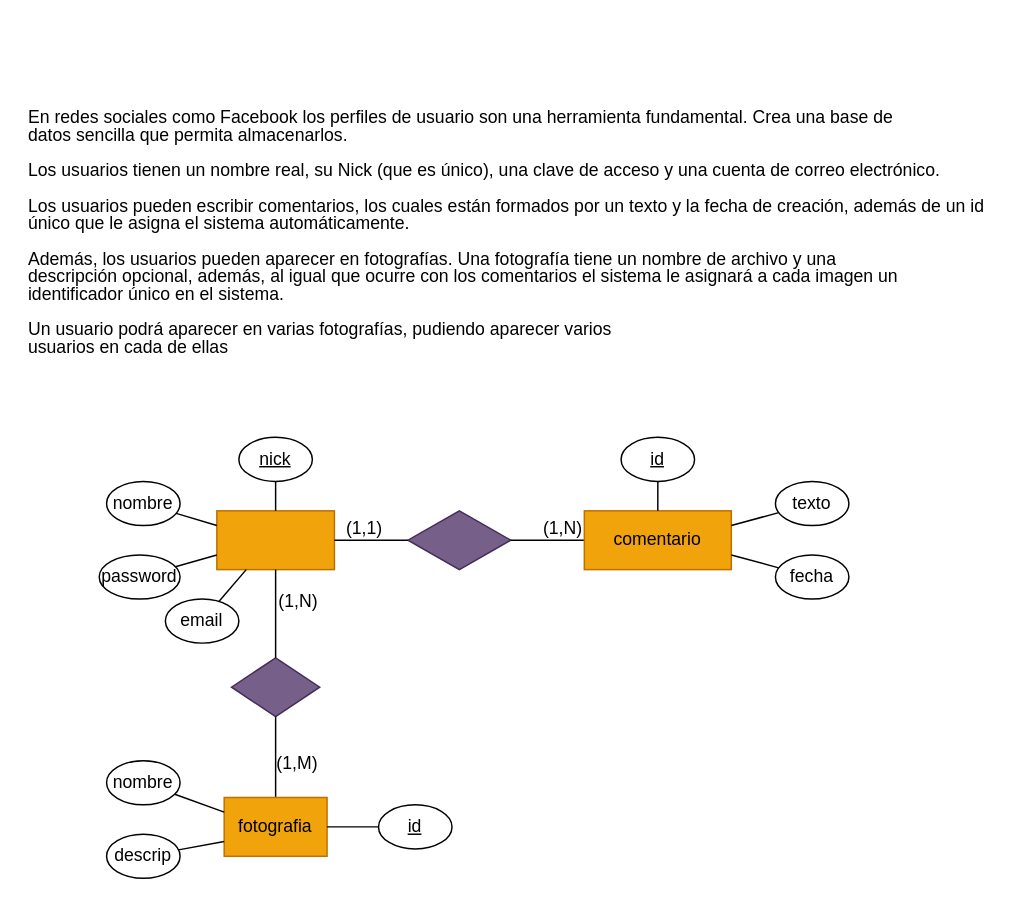
The diagram is 1035 pixels wide and 904 high, and some of its shapes have lost their labels. Here are the shapes that lost their labels. From the top down, the box of each, then its label:
(215, 509, 334, 570): usuario
(406, 509, 511, 570): escribe
(230, 656, 320, 717): aparece
